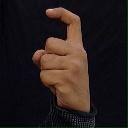hand: (31, 6, 90, 112)
